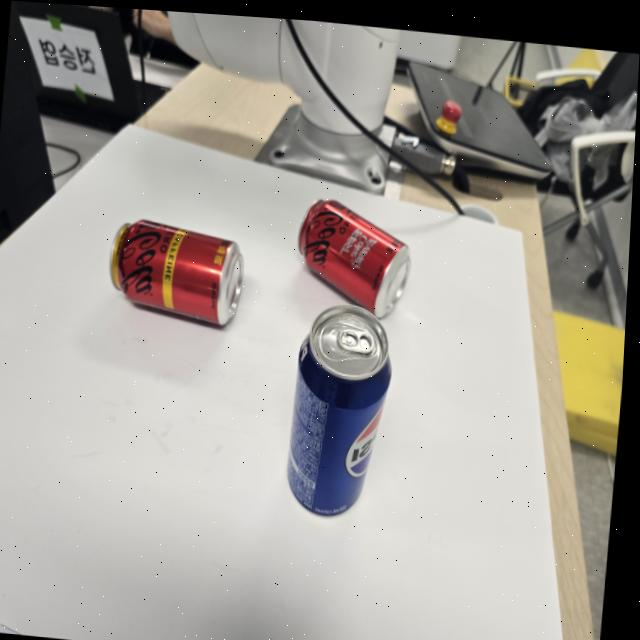can_coke_decaf: (110, 220, 244, 325)
can_coke_zero: (298, 200, 410, 317)
can_pepsi: (287, 305, 391, 515)
